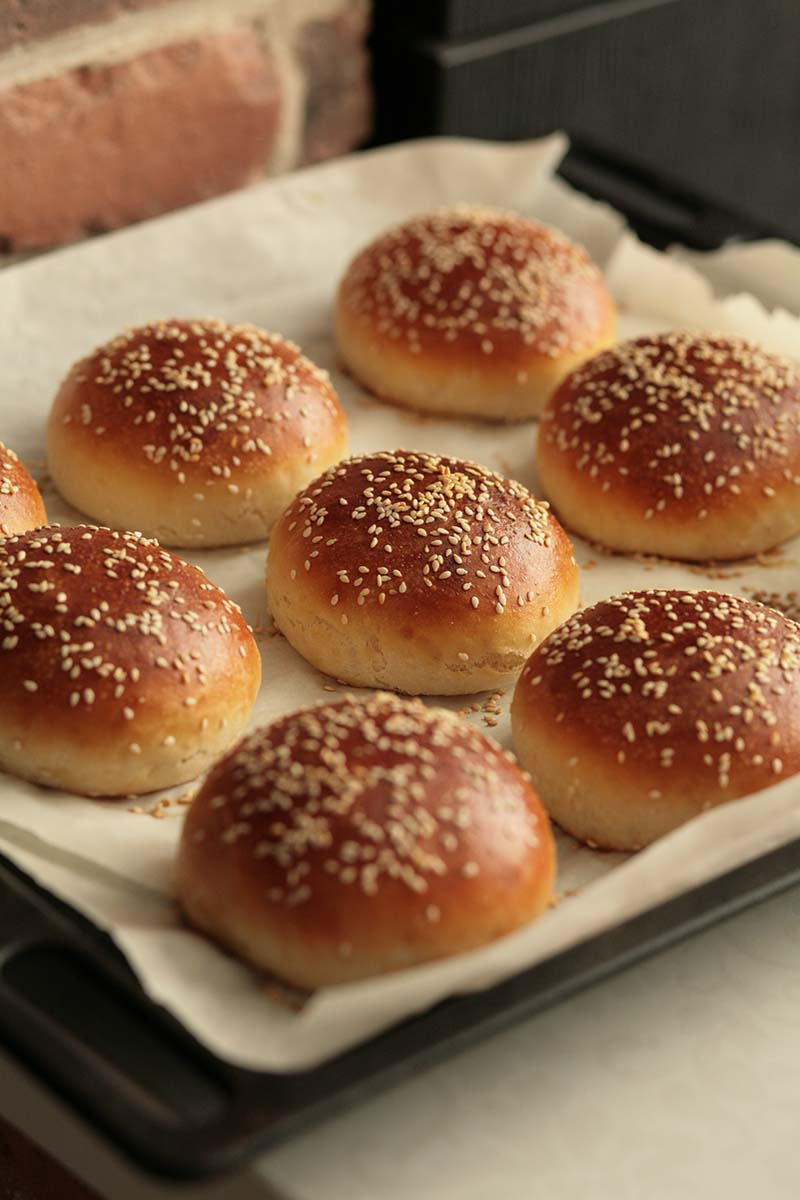hamburger_buns: (162, 686, 561, 1042), (325, 201, 606, 433), (269, 427, 555, 646)
